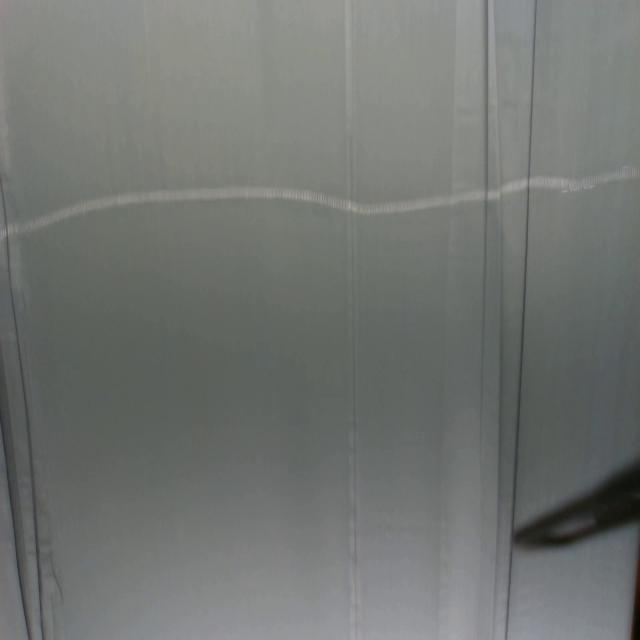crease: (0, 170, 46, 640), (512, 0, 538, 512), (347, 0, 362, 639), (0, 413, 30, 640), (478, 0, 491, 458), (503, 546, 515, 640)
